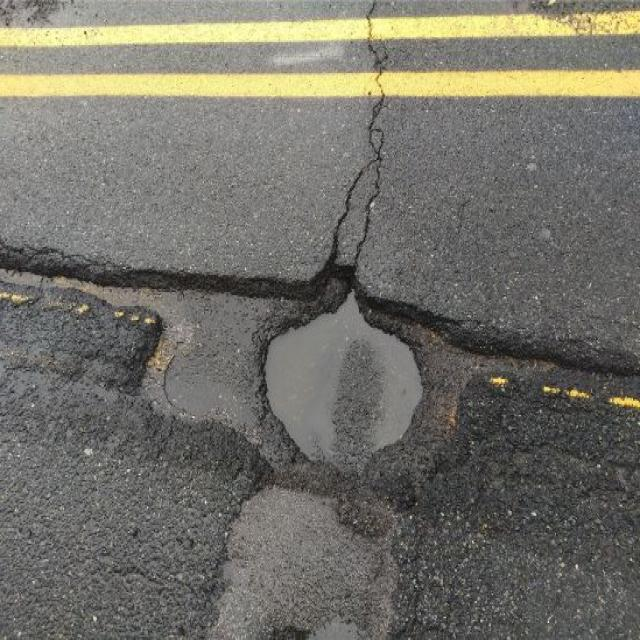Pothole: (99, 256, 521, 481), (200, 480, 419, 640), (259, 281, 432, 474)
